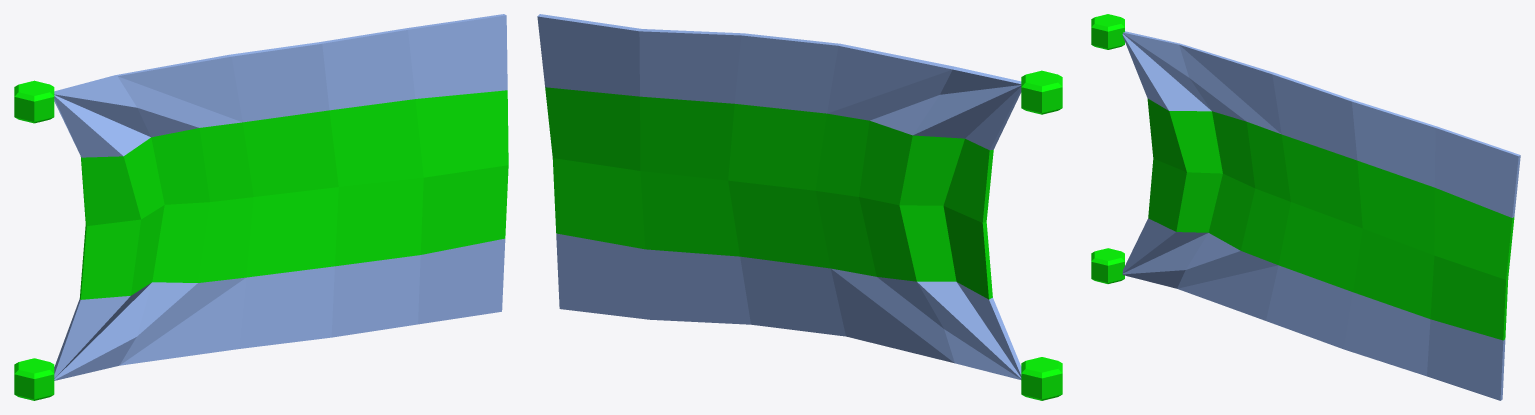
Rendered from SM_Flag_Regular_A_Fantasy.fbx.
The picture shows the model from 3 angles, left to right: view 1: azimuth 30°, elevation 25°; view 2: azimuth 150°, elevation 25°; view 3: azimuth 330°, elevation 25°; orthographic projection. The views are drawn at different scales.
Parts seen in each view (by area): view 1: flag-regular-a-fantasy; view 2: flag-regular-a-fantasy; view 3: flag-regular-a-fantasy.
Part boxes in pixels (x1,y1,x2,y2): flag-regular-a-fantasy: (14,14,508,400); flag-regular-a-fantasy: (537,14,1062,400); flag-regular-a-fantasy: (1091,14,1520,400).
Size of the model in its own units: 1.12 by 0.7203 by 0.0777.
